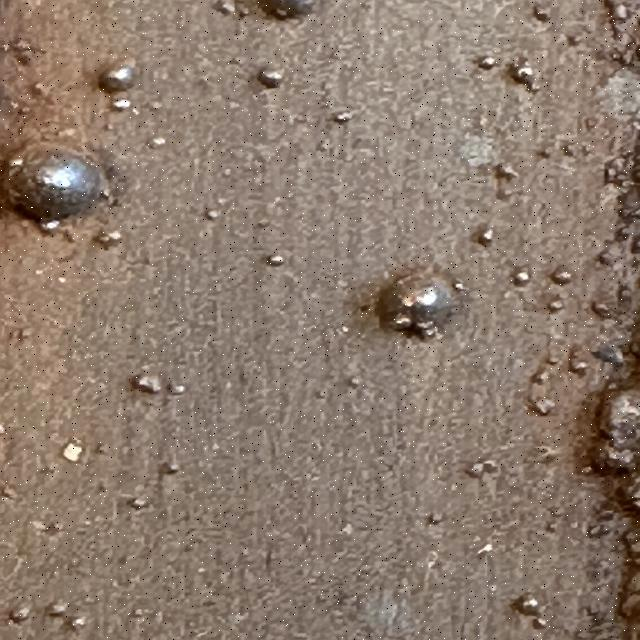Spatters: (7, 142, 103, 220), (377, 272, 453, 339), (602, 390, 640, 451), (595, 440, 638, 471), (508, 58, 540, 94), (258, 0, 315, 20), (2, 39, 43, 65), (98, 65, 135, 91), (621, 572, 640, 616), (510, 592, 542, 616), (467, 460, 498, 478), (133, 375, 162, 394), (413, 321, 440, 340), (258, 70, 283, 89), (97, 231, 122, 250), (495, 162, 518, 181), (530, 398, 555, 415), (530, 366, 552, 385), (8, 606, 30, 624), (568, 358, 590, 376), (390, 312, 412, 330), (550, 268, 573, 285), (597, 249, 620, 265), (592, 301, 612, 319), (533, 4, 552, 22), (213, 0, 235, 15), (38, 219, 60, 234), (47, 601, 68, 616), (588, 524, 610, 538), (32, 82, 50, 98), (477, 56, 497, 70), (127, 498, 150, 510), (513, 270, 530, 286), (112, 98, 132, 111), (333, 111, 353, 124), (478, 229, 493, 246), (619, 284, 632, 302), (72, 616, 87, 631), (537, 145, 553, 159), (347, 375, 363, 389), (162, 463, 180, 475), (148, 138, 167, 149), (168, 384, 187, 395), (548, 506, 565, 518), (267, 255, 285, 266), (563, 142, 577, 156), (548, 299, 563, 312), (532, 618, 547, 630), (428, 514, 442, 526), (238, 4, 250, 18), (313, 389, 328, 400), (453, 280, 467, 291), (17, 105, 32, 115), (205, 209, 218, 220), (567, 35, 580, 46), (547, 356, 560, 365), (545, 523, 557, 532)
